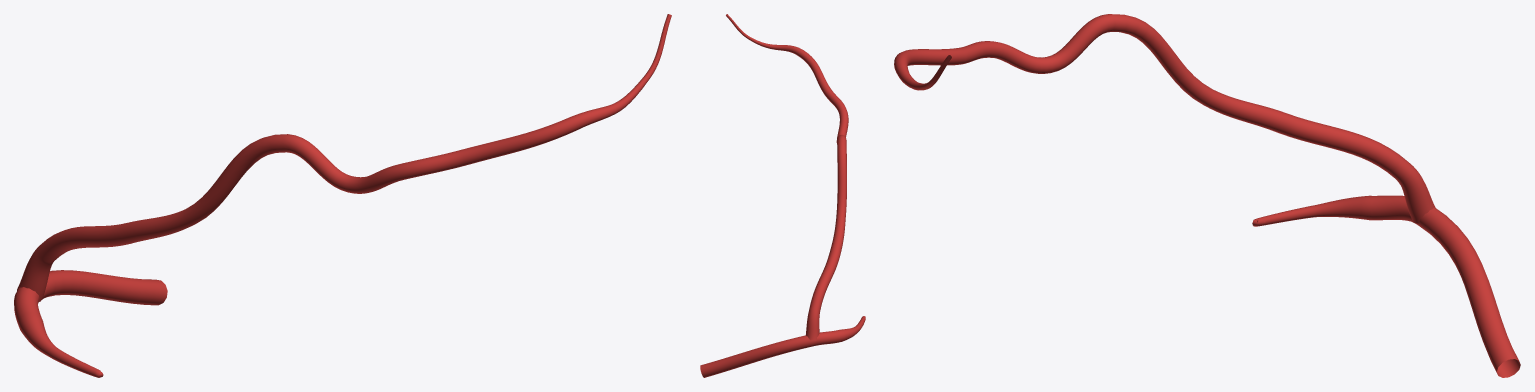
3 views of the same model, side by side, from view 1: azimuth 30°, elevation 25°; view 2: azimuth 150°, elevation 25°; view 3: azimuth 270°, elevation 25° (orthographic). The views are drawn at different scales.
Parts seen in each view (by area): view 1: 右侧大脑中动脉顶支; view 2: 右侧大脑中动脉顶支; view 3: 右侧大脑中动脉顶支.
Part boxes in pixels (bbox=[...]): 右侧大脑中动脉顶支: bbox=[14, 14, 671, 377]; 右侧大脑中动脉顶支: bbox=[700, 14, 865, 377]; 右侧大脑中动脉顶支: bbox=[894, 14, 1520, 377].
Size of the model in its own units: 0.0492 by 0.0465 by 0.0603.
